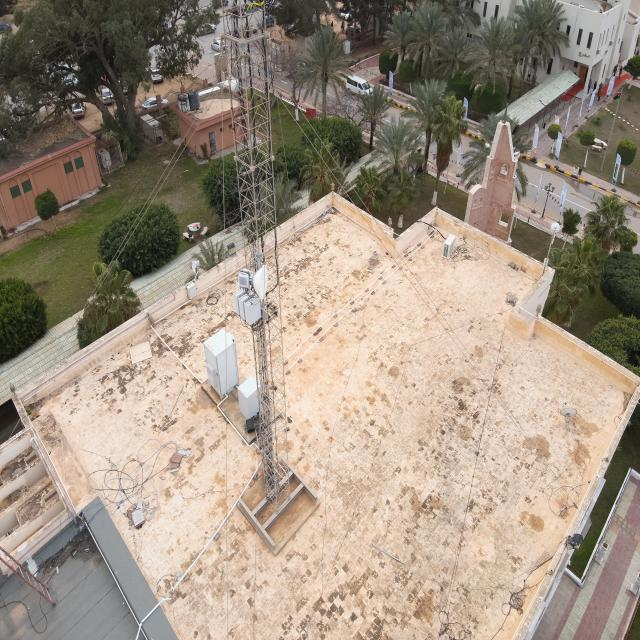microware-dish: (238, 263, 271, 301)
power-box: (231, 289, 264, 326)
